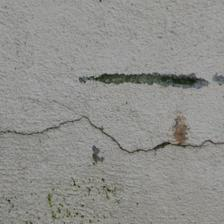Crack: (103, 46, 186, 182), (114, 196, 145, 224)
